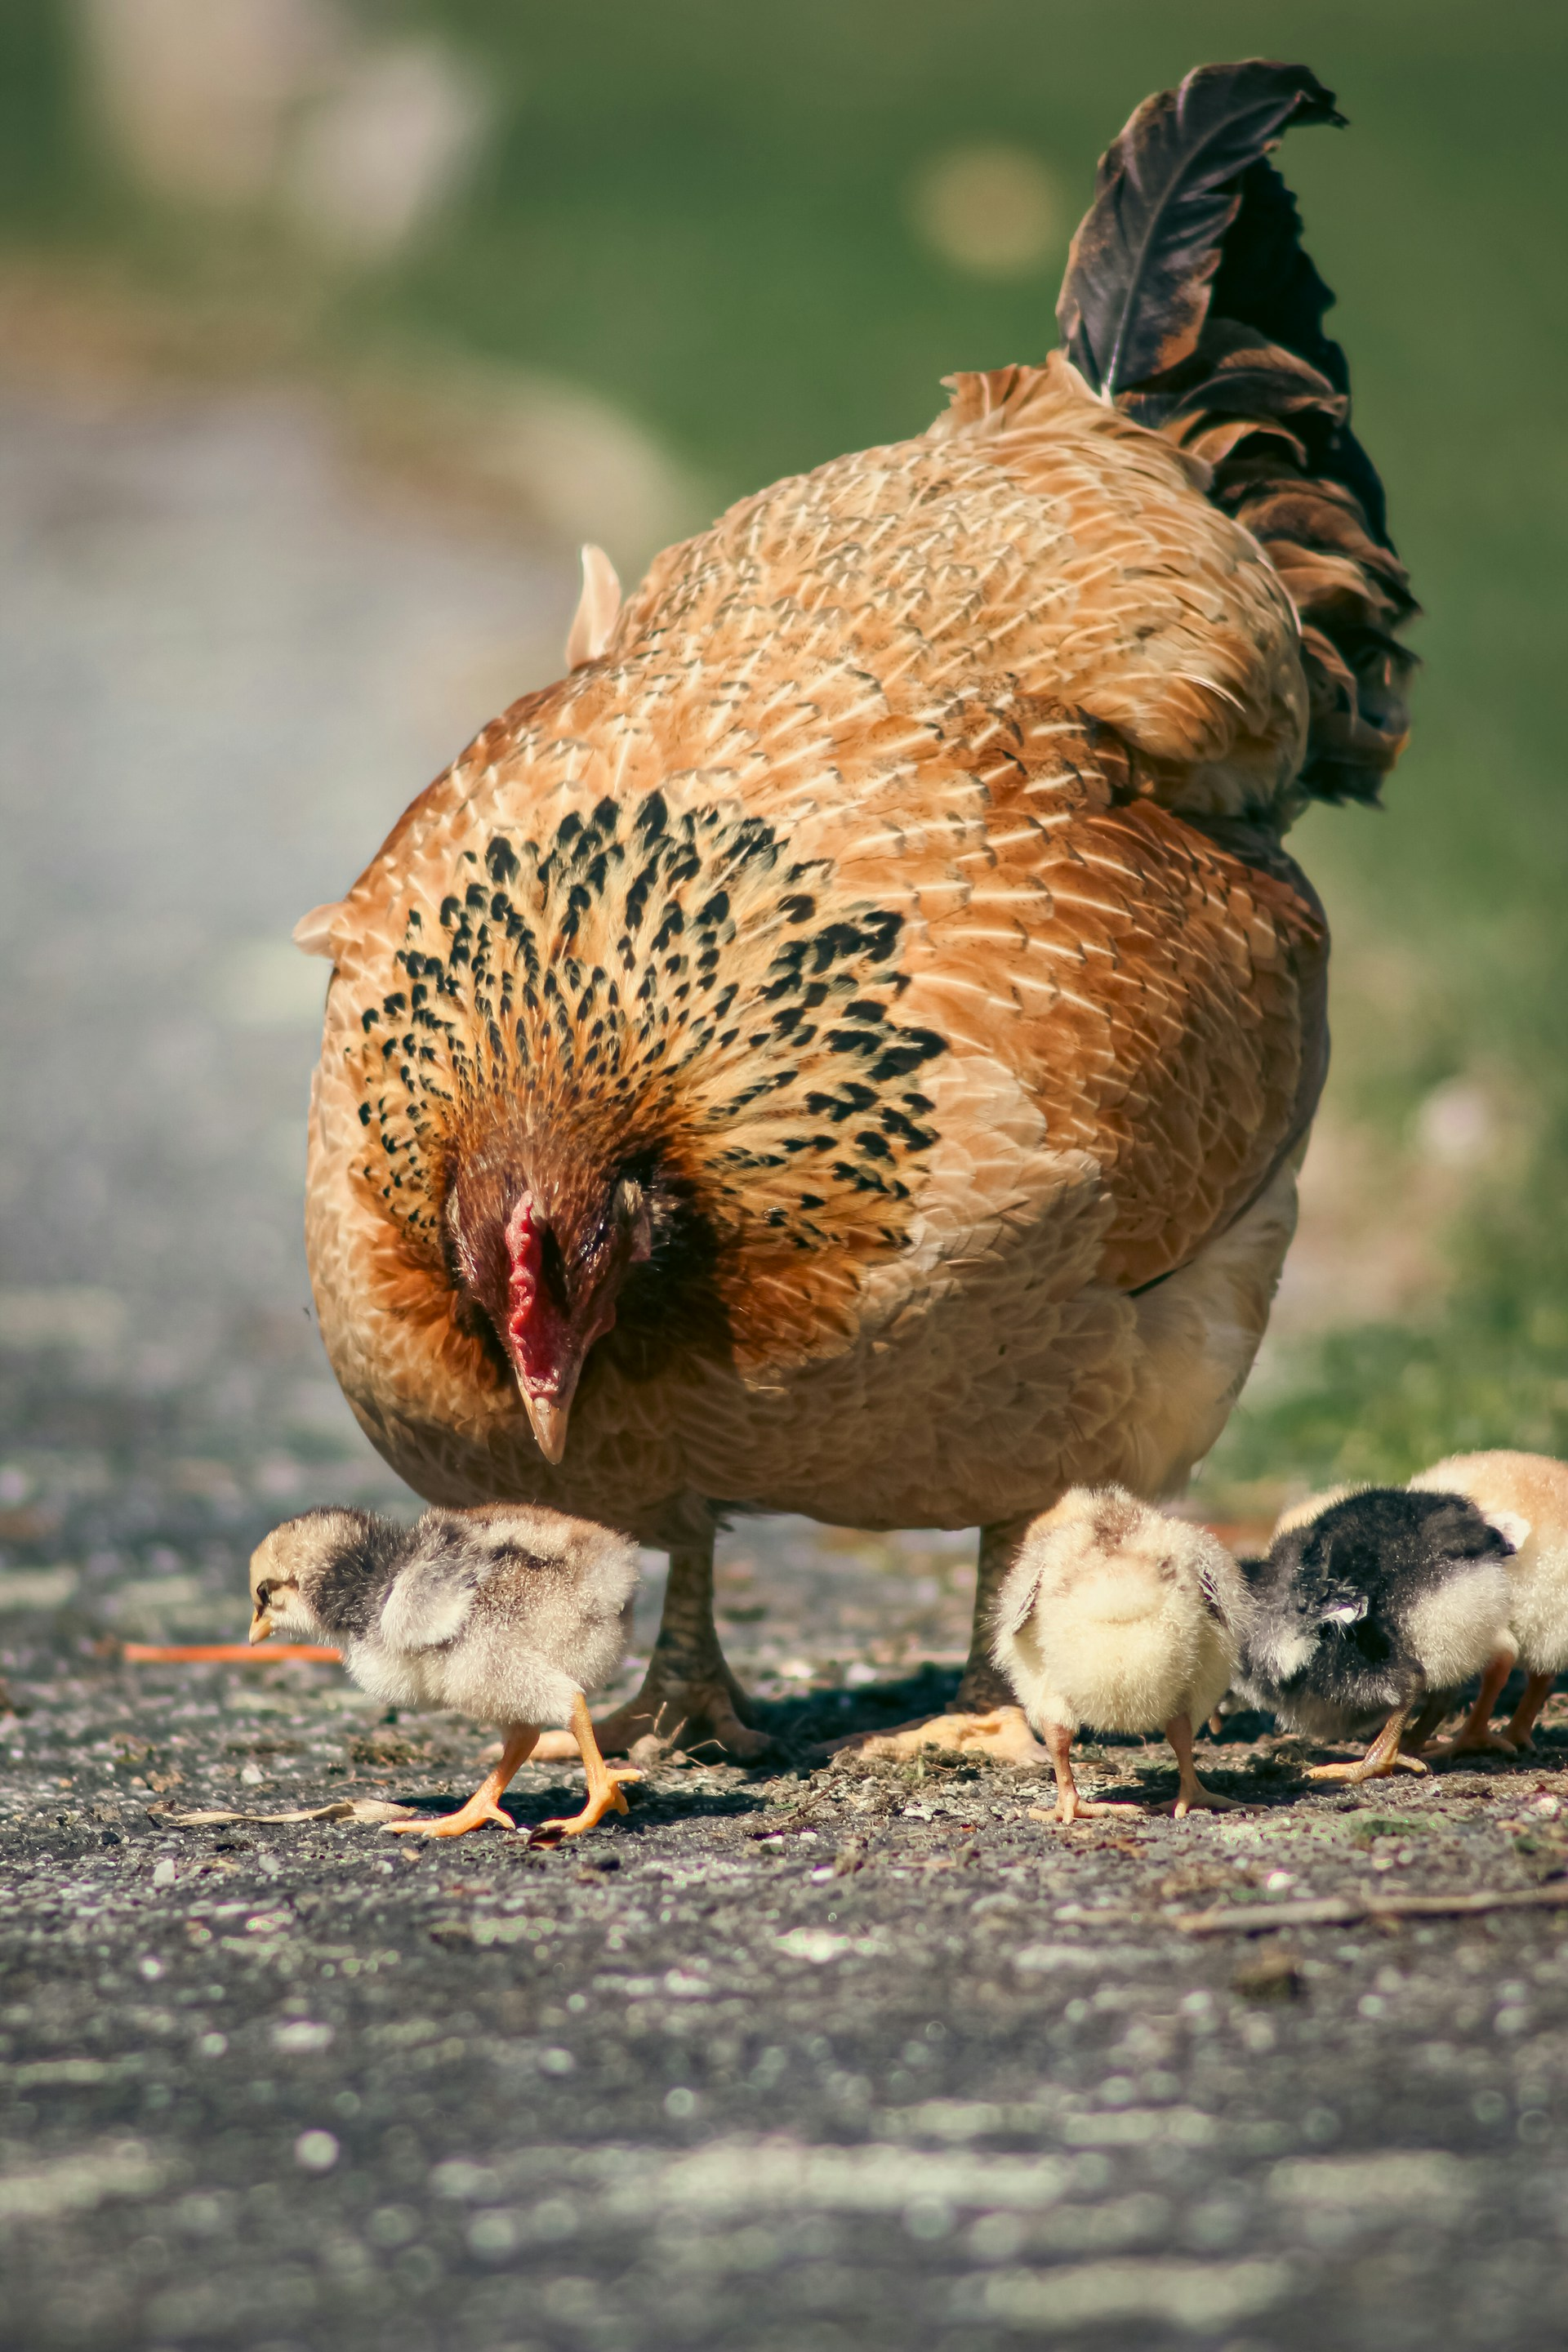owl: (280, 52, 1449, 1766)
